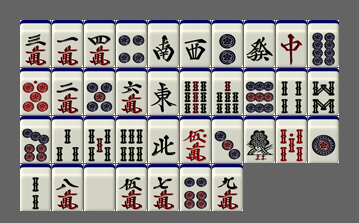0m: (180, 116, 211, 163)
0p: (20, 68, 51, 115)
0s: (276, 116, 307, 163)
1m: (52, 20, 83, 67)
1p: (308, 116, 339, 163)
1s: (244, 116, 275, 163)
1z: (148, 68, 179, 115)
2m: (52, 68, 83, 115)
2p: (212, 20, 243, 67)
2s: (20, 164, 51, 211)
2z: (148, 20, 179, 67)
3m: (20, 20, 51, 67)
3p: (212, 116, 243, 163)
3s: (52, 116, 83, 163)
3z: (180, 20, 211, 67)
4m: (84, 20, 115, 67)
4p: (116, 20, 147, 67)
4s: (276, 68, 307, 115)
4z: (148, 116, 179, 163)
5m: (116, 164, 147, 211)
5p: (84, 68, 115, 115)
5s: (84, 116, 115, 163)
5z: (84, 164, 115, 211)
6m: (116, 68, 147, 115)
6p: (180, 164, 211, 211)
6s: (116, 116, 147, 163)
6z: (244, 20, 275, 67)
7m: (148, 164, 179, 211)
7p: (20, 116, 51, 163)
7s: (212, 68, 243, 115)
7z: (276, 20, 307, 67)
8m: (52, 164, 83, 211)
8p: (308, 20, 339, 67)
8s: (308, 68, 339, 115)
9m: (212, 164, 243, 211)
9p: (244, 68, 275, 115)
9s: (180, 68, 211, 115)
